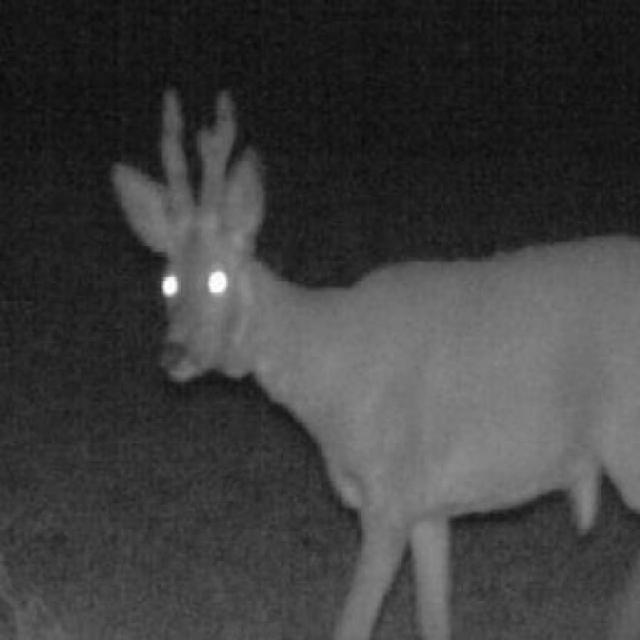Deer: (101, 84, 638, 638)
